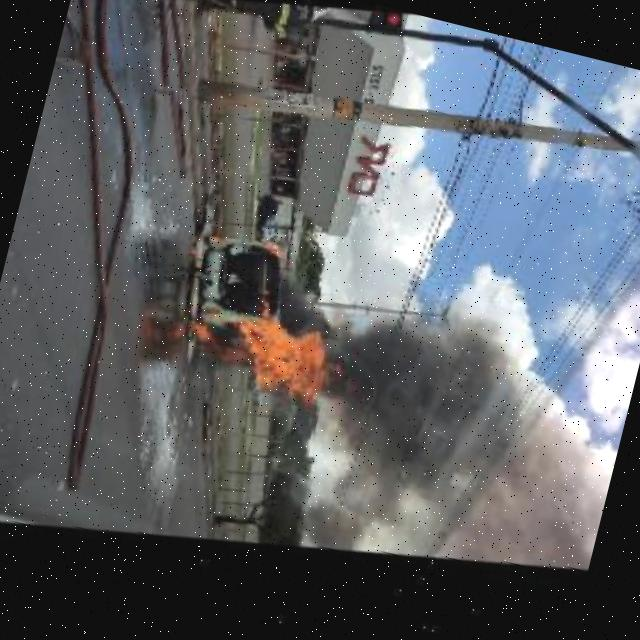fire: (211, 280, 365, 427), (191, 321, 222, 351)
